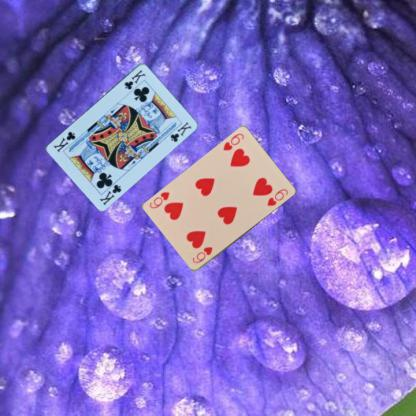6h: (221, 131, 245, 152), (189, 244, 214, 264)
Kc: (121, 67, 147, 91), (96, 182, 122, 206)
